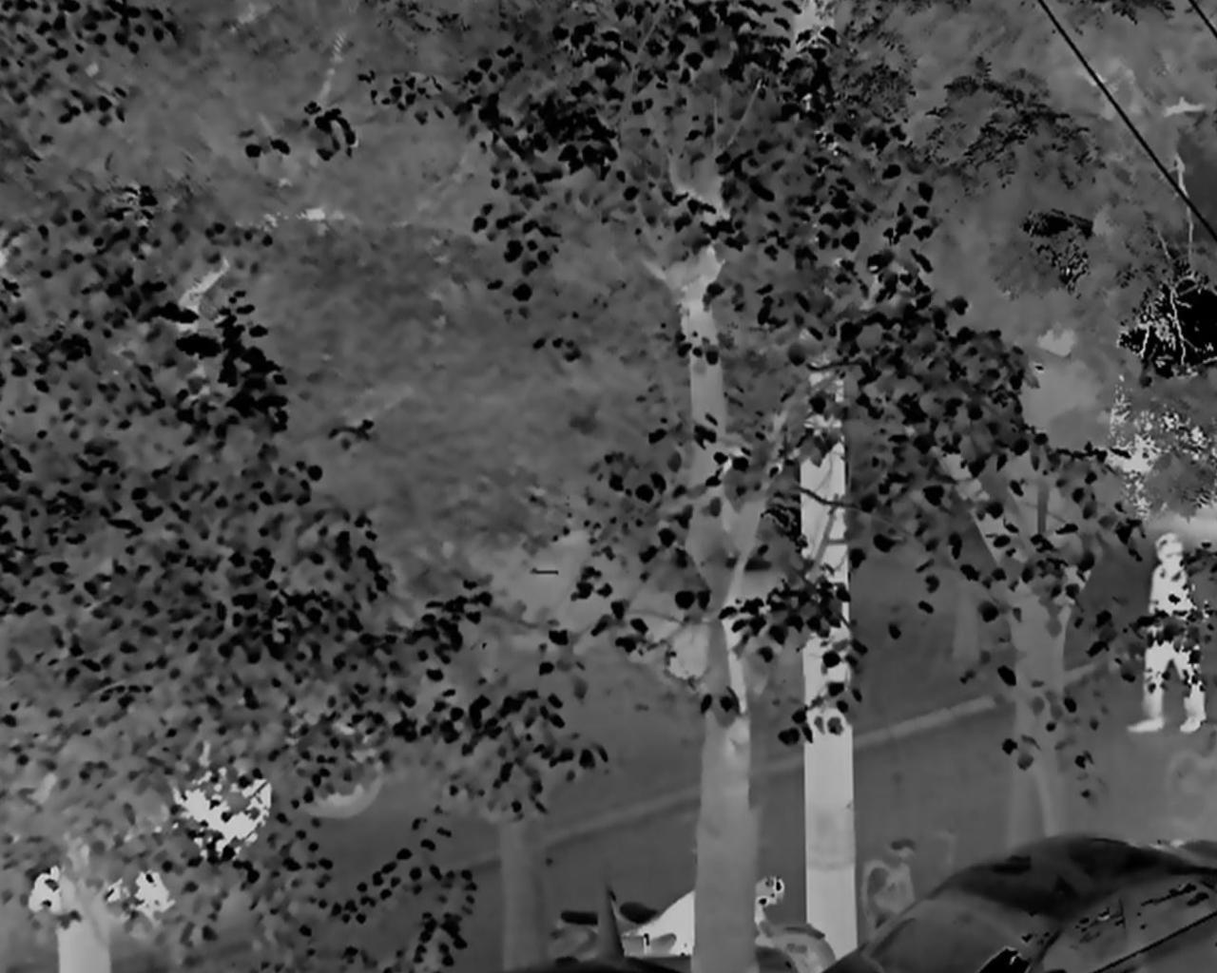person: (1129, 530, 1207, 736)
